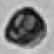correct: (5, 5, 46, 50)
